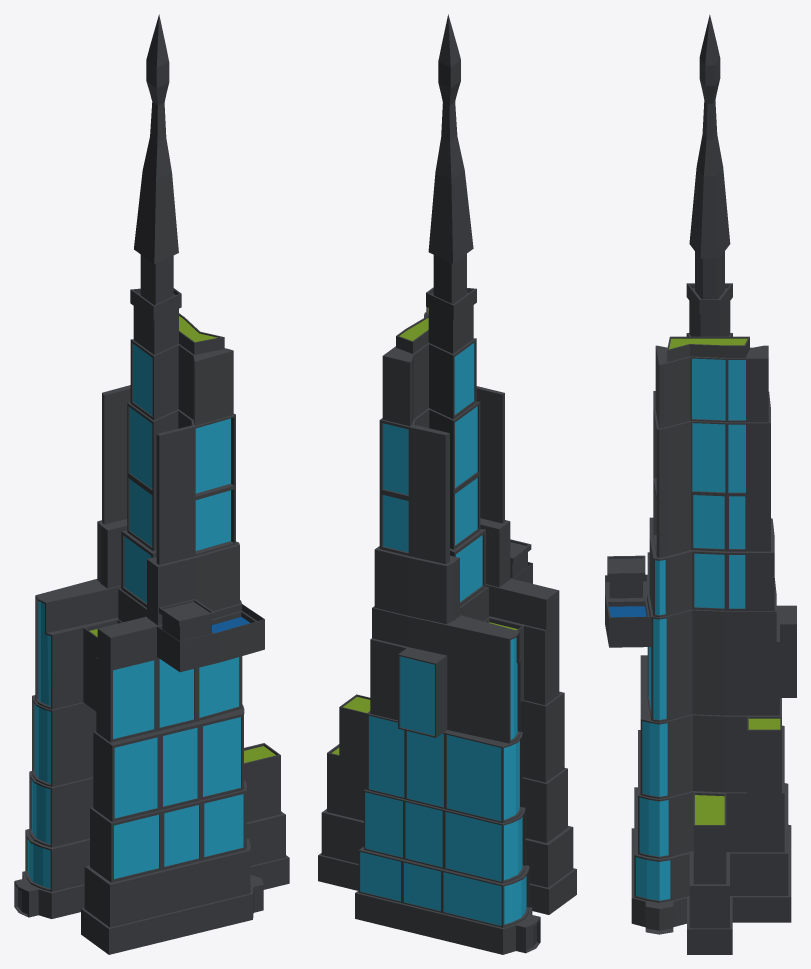
The model's file is skydelen.fbx.
3 views of the same model, side by side, from view 1: azimuth 30°, elevation 25°; view 2: azimuth 150°, elevation 25°; view 3: azimuth 270°, elevation 25° (orthographic).
Visible parts, largest first — view 1: Cube; view 2: Cube; view 3: Cube.
Boxes of the visible parts, box(x1,y1,x2,y2) form: Cube: box(14, 14, 289, 954); Cube: box(318, 14, 576, 954); Cube: box(605, 14, 796, 954).
Size of the model in its own units: 1170 by 4264 by 839.
